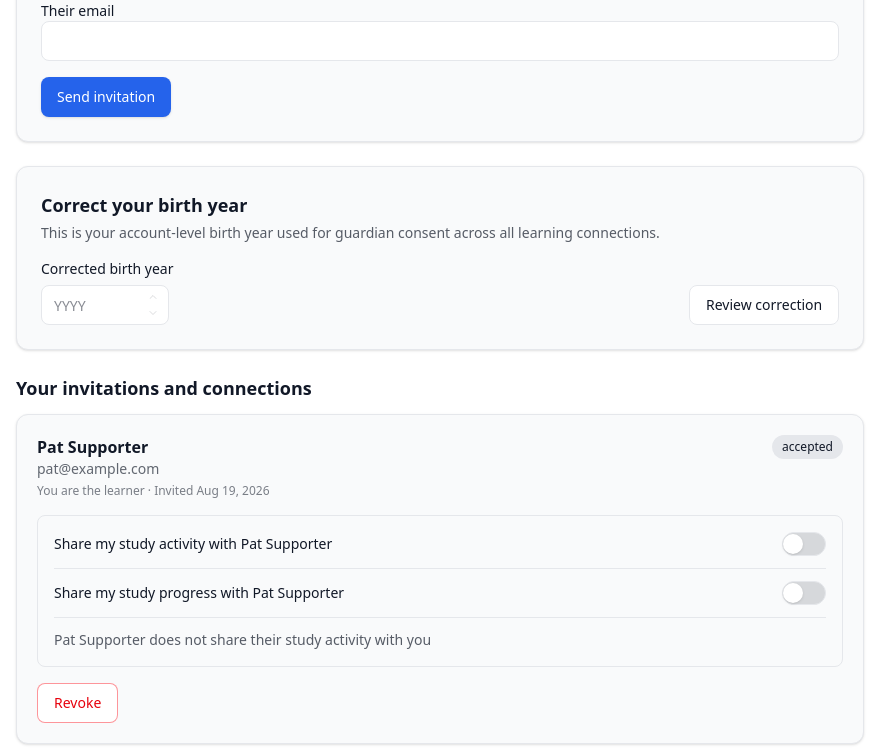
Test: keeps the server-confirmed activity toggle state when the write fails
The image size is (881, 754).
(page scrolled)
Click the switch named "share my study activity": [804, 544] box x1=782 y1=532 x2=826 y2=556
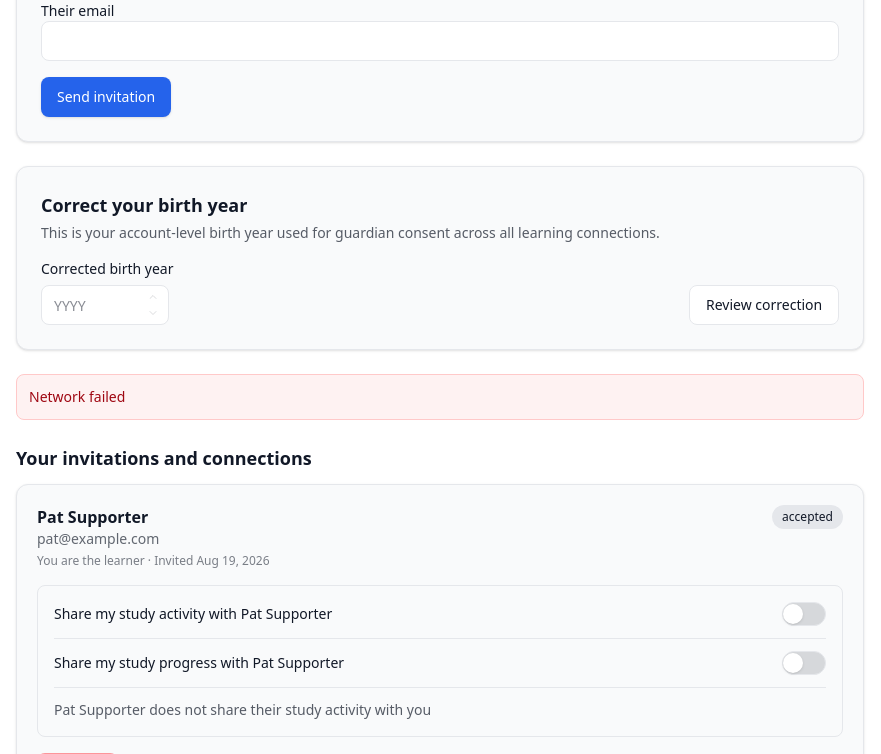
expect the switch named "share my study activity" is not checked: met, box x1=782 y1=602 x2=826 y2=626
expect the message reads "Network failed": met, box x1=29 y1=387 x2=125 y2=406
